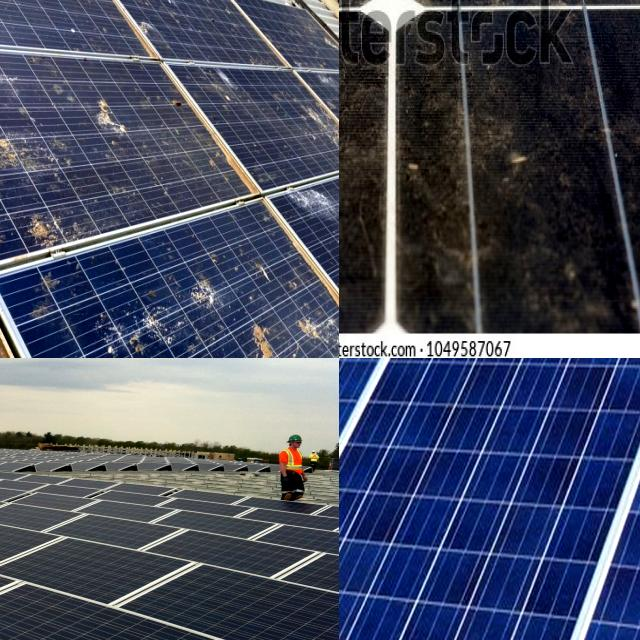bird: (87, 49, 141, 156), (196, 55, 253, 124), (14, 200, 86, 243), (284, 180, 339, 225), (0, 9, 35, 78), (0, 125, 35, 192), (238, 325, 305, 358), (0, 165, 23, 238), (188, 259, 210, 331), (170, 78, 182, 132)
crack: (339, 358, 640, 640), (0, 411, 339, 640)
dust: (404, 17, 518, 320), (546, 15, 620, 322), (409, 0, 567, 96), (339, 11, 383, 331), (339, 15, 376, 314), (339, 16, 373, 324), (401, 0, 640, 37), (560, 0, 640, 95), (339, 0, 413, 102), (339, 0, 404, 98), (339, 0, 428, 32)
